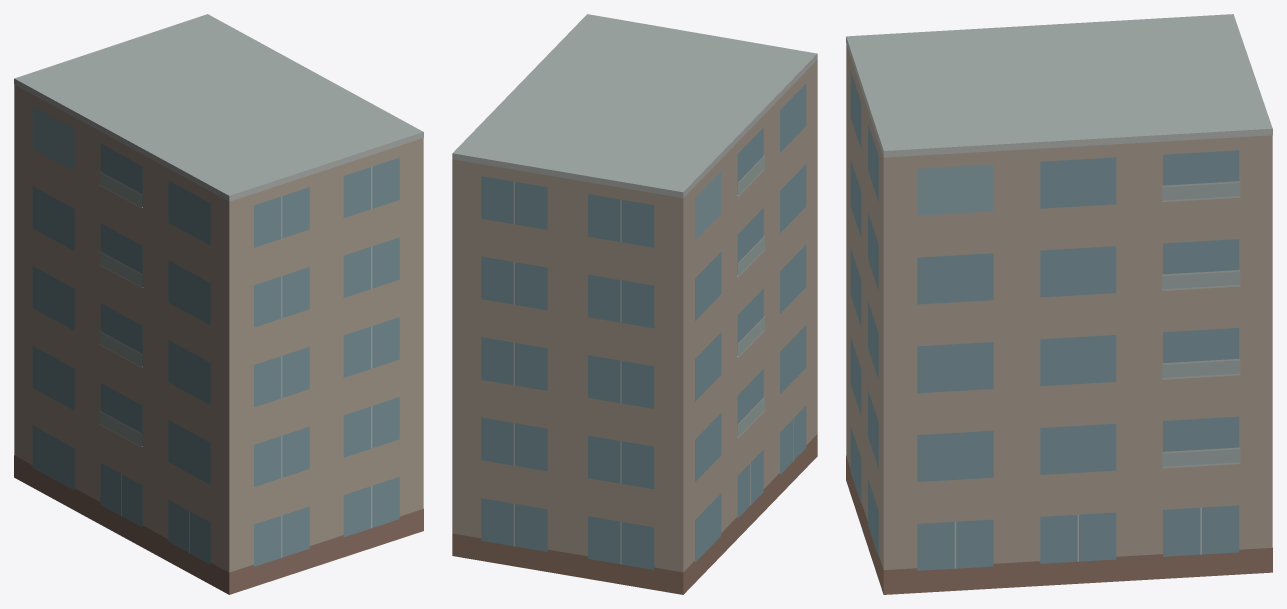
The model's file is survey-upis-32531912.glb.
3 views of the same model, side by side, from view 1: azimuth 30°, elevation 25°; view 2: azimuth 150°, elevation 25°; view 3: azimuth 270°, elevation 25° (orthographic). The views are drawn at different scales.
Parts seen in each view (by area): view 1: survey-upis-32531912.tmp; view 2: survey-upis-32531912.tmp; view 3: survey-upis-32531912.tmp.
Boxes of the visible parts, x1,y1,x2,y2 form: survey-upis-32531912.tmp: (14, 14, 423, 594); survey-upis-32531912.tmp: (452, 14, 817, 594); survey-upis-32531912.tmp: (846, 14, 1272, 594).
Size of the model in its own units: 10.94 by 16.5 by 14.39.
